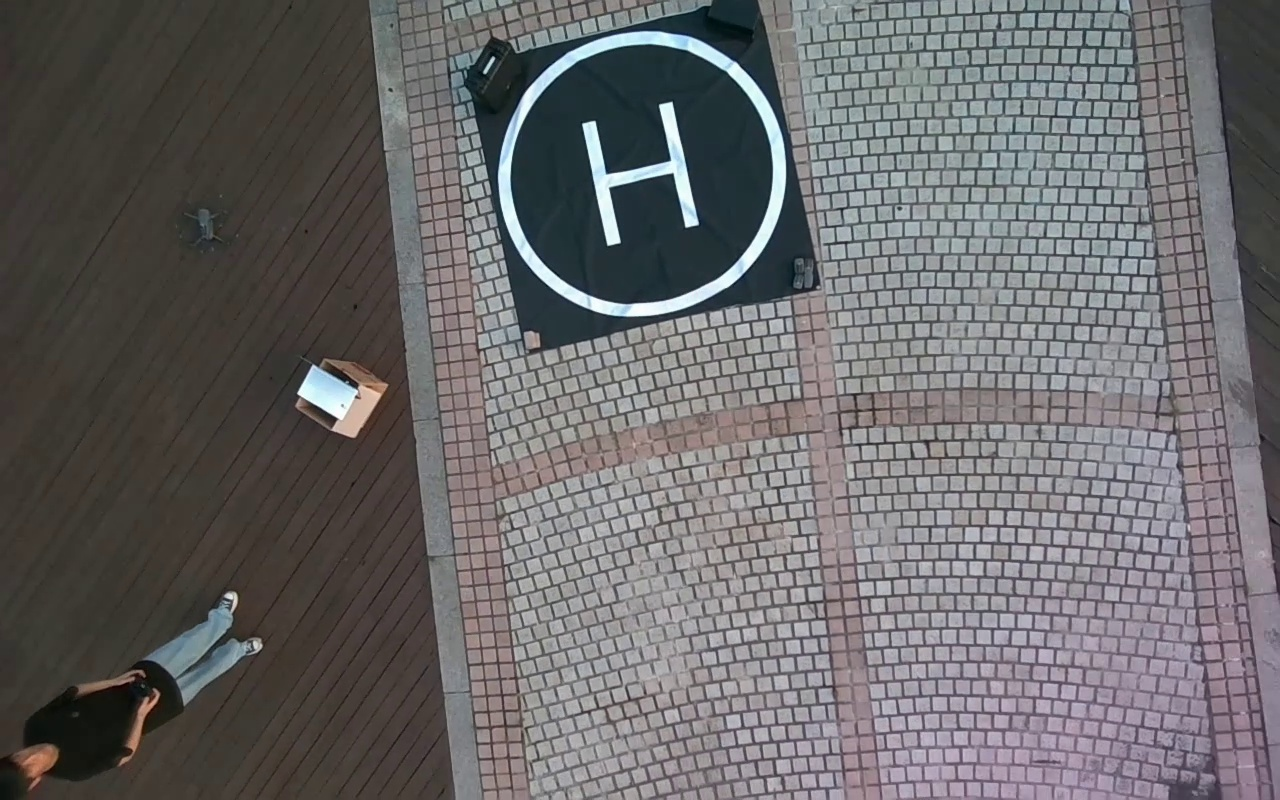H: (578, 101, 702, 249)
heliport: (499, 31, 789, 315)
